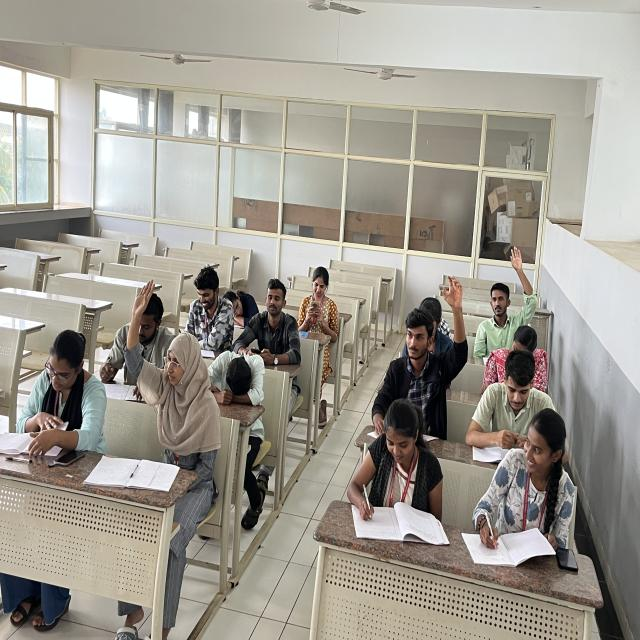Hand Rising: (121, 280, 218, 448), (386, 273, 474, 407), (482, 243, 542, 344)
Sleeping: (212, 343, 270, 408), (221, 286, 263, 329)
Using Phone: (238, 284, 298, 369), (291, 264, 339, 330)
Writing: (471, 416, 582, 566), (346, 402, 448, 533)
